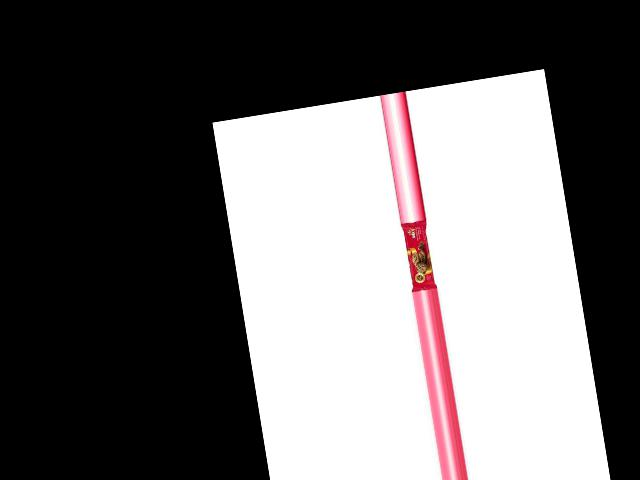chocolate: (401, 218, 439, 290)
